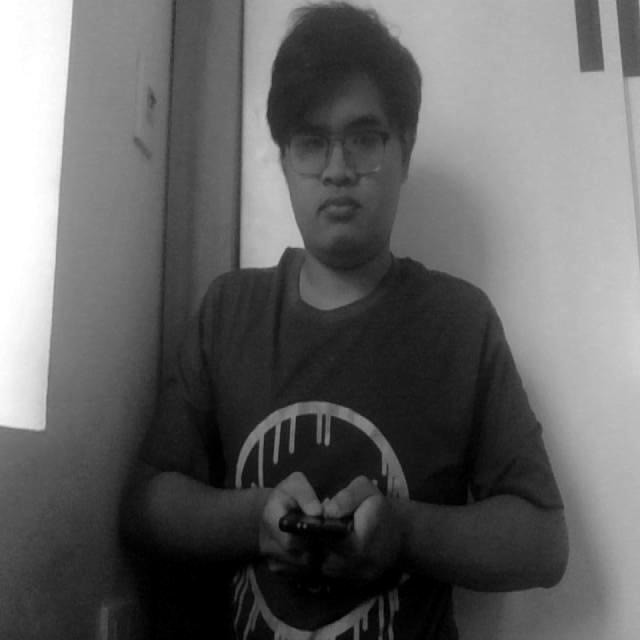phone: (274, 490, 368, 574)
